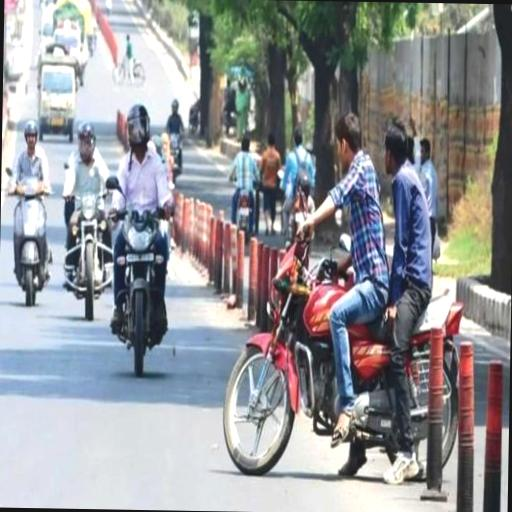helmet: (104, 86, 181, 380), (58, 108, 118, 326), (2, 102, 58, 298)
no helmet: (276, 99, 384, 445)
